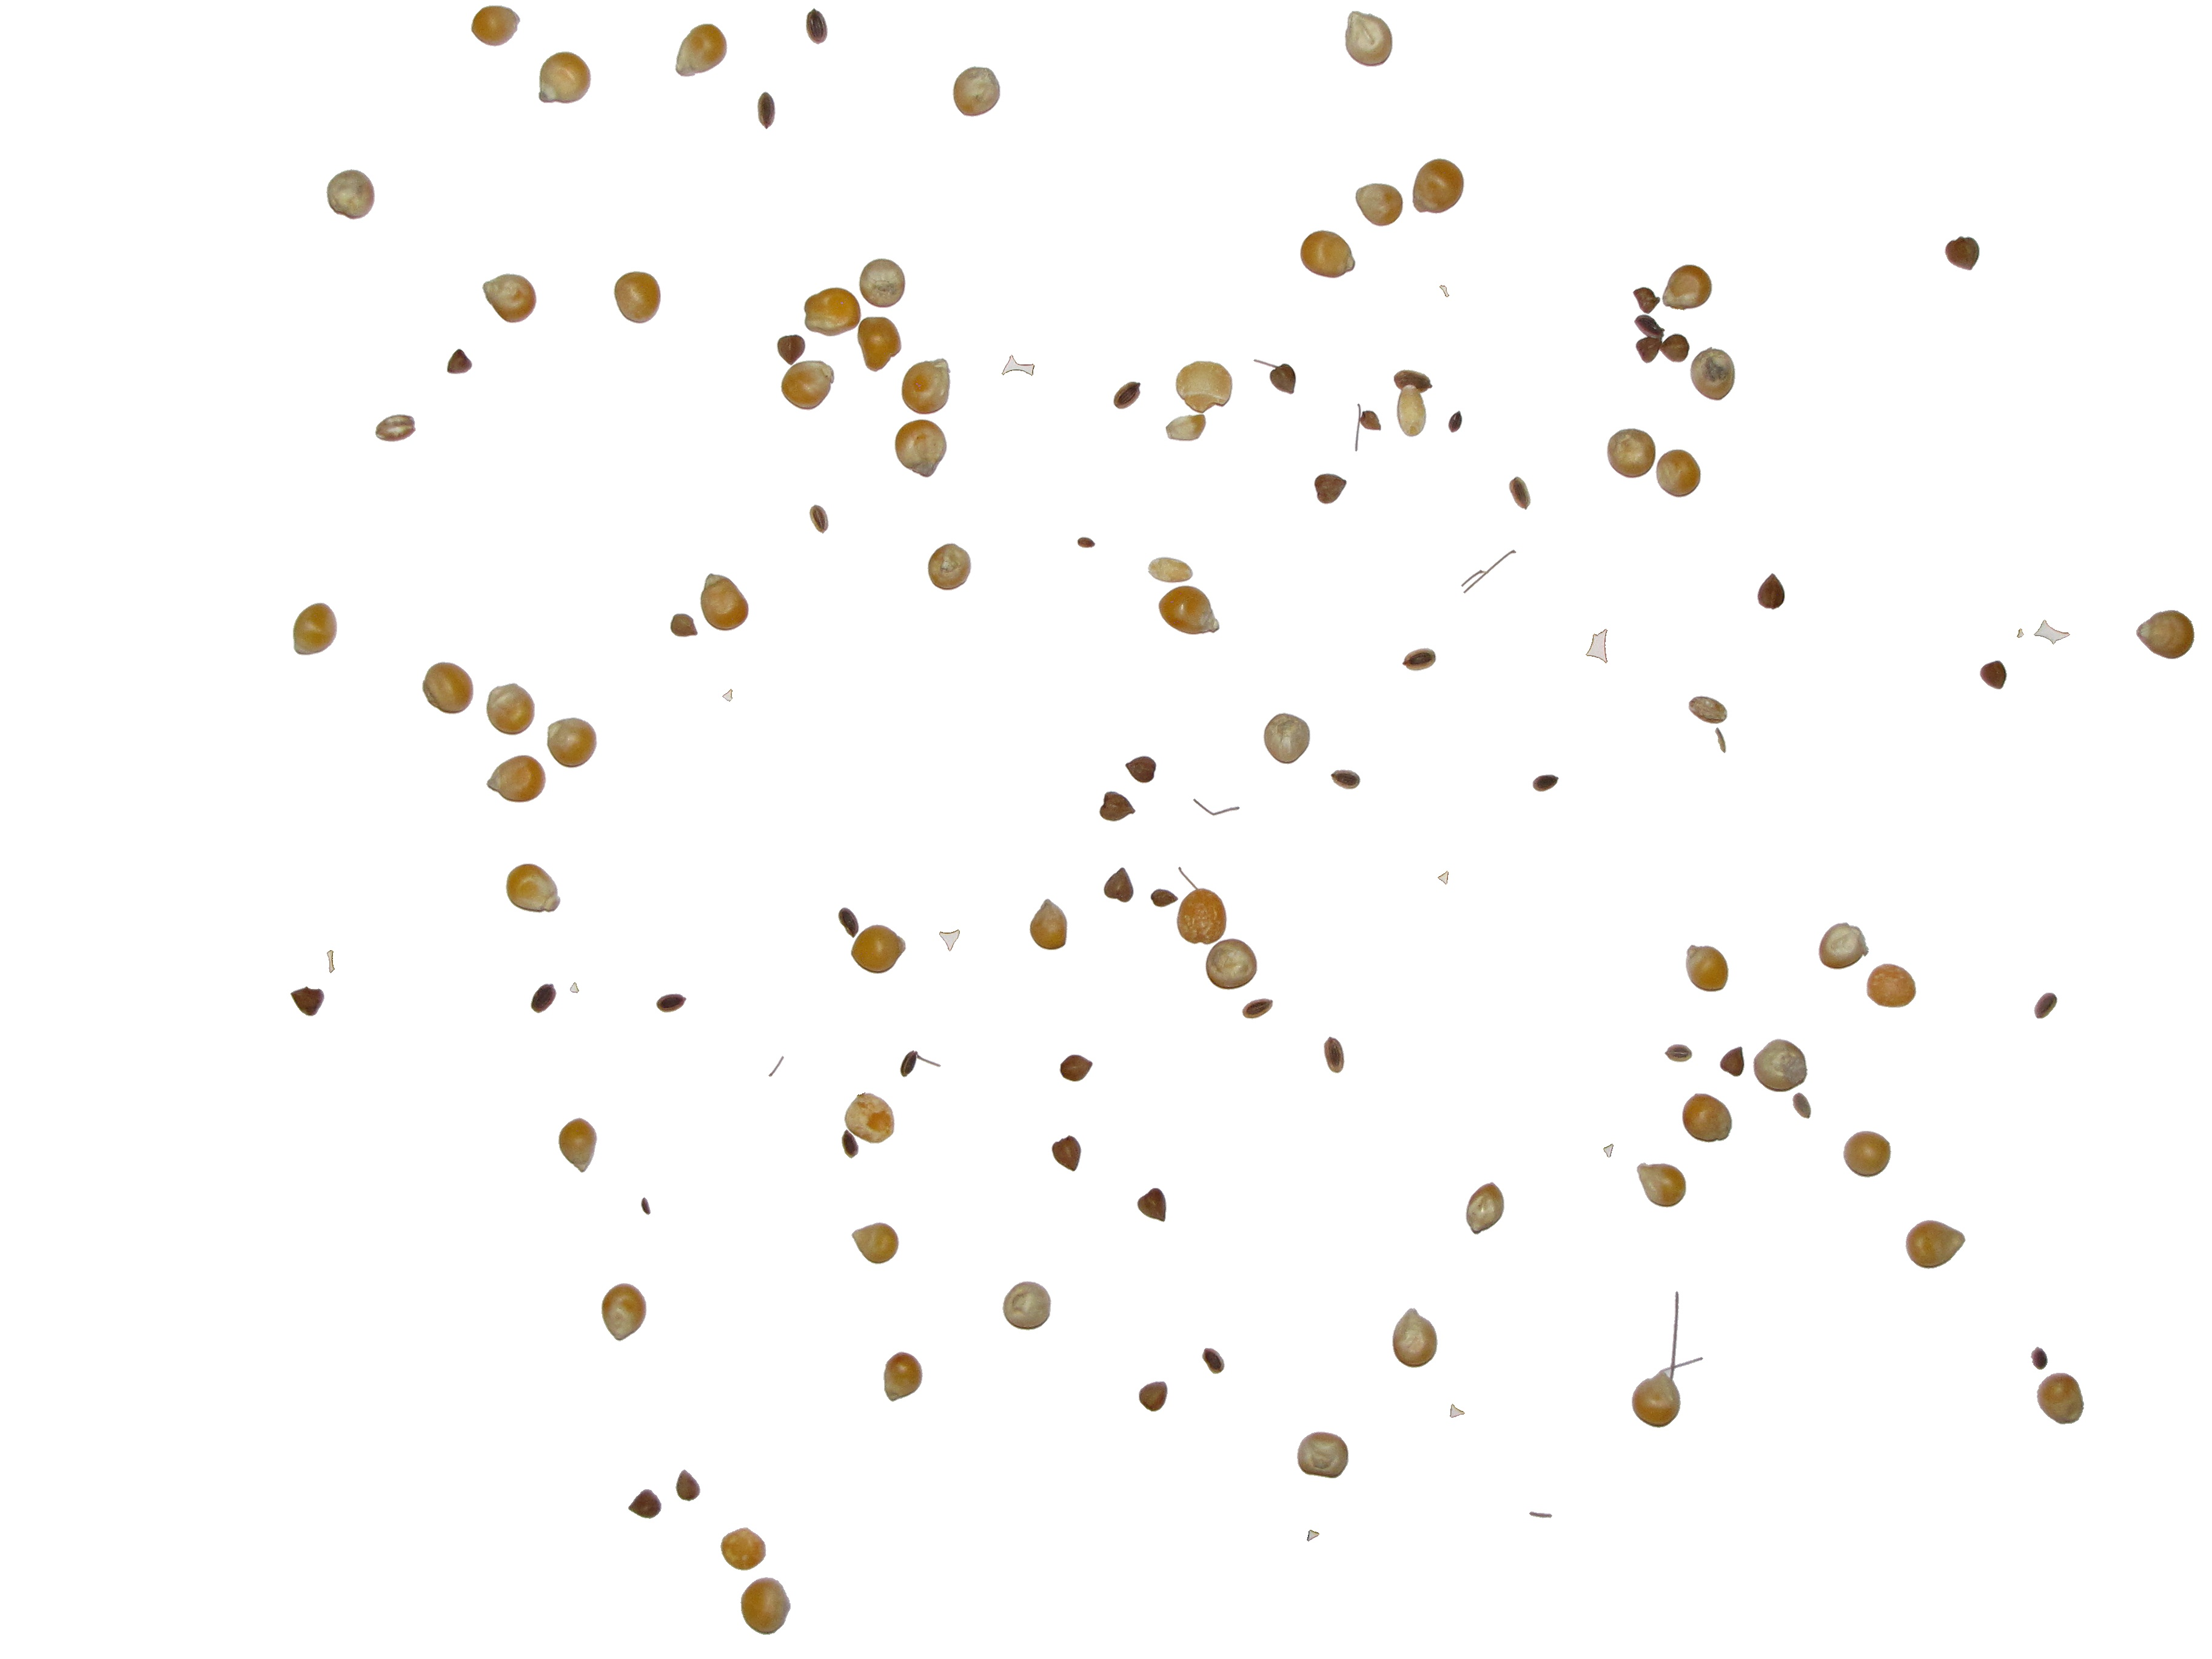buckwheat: (1635, 315, 1689, 362), (1254, 359, 1296, 394), (1355, 404, 1381, 451), (1946, 239, 1979, 272), (1757, 573, 1787, 610), (1099, 791, 1136, 821), (1104, 868, 1134, 903), (1052, 1136, 1082, 1171), (1689, 695, 1726, 723), (291, 986, 324, 1016), (1315, 474, 1346, 504), (1137, 1188, 1165, 1222), (629, 1490, 660, 1518), (1139, 1382, 1167, 1412), (1125, 756, 1157, 782), (1061, 1054, 1092, 1080), (676, 1469, 700, 1500), (1324, 1037, 1345, 1073), (1402, 648, 1435, 671), (1116, 382, 1143, 410), (1980, 660, 2006, 688), (806, 9, 827, 44), (1587, 629, 1608, 662), (1510, 476, 1531, 509), (1634, 288, 1660, 314), (1665, 1046, 1693, 1070), (531, 983, 556, 1011), (1721, 1047, 1743, 1077), (1242, 999, 1273, 1019), (758, 92, 775, 129), (838, 908, 859, 938), (448, 349, 472, 373), (657, 993, 686, 1012), (1331, 770, 1360, 789), (1202, 1349, 1224, 1373), (1792, 1093, 1811, 1119), (1151, 889, 1177, 908), (843, 1129, 859, 1159), (1533, 775, 1559, 791), (941, 931, 960, 951), (2031, 1347, 2047, 1370), (768, 1056, 784, 1077), (1716, 728, 1726, 753), (1449, 411, 1461, 432), (641, 1197, 650, 1215), (1439, 871, 1447, 884), (571, 983, 578, 993)
dill: (1193, 800, 1240, 816)
mais: (1158, 586, 1219, 634), (1176, 361, 1231, 413), (740, 1577, 791, 1635), (895, 420, 946, 477), (1905, 1220, 1965, 1269), (2137, 610, 2195, 659), (700, 573, 749, 631), (1177, 887, 1226, 945), (1754, 1039, 1806, 1091), (1413, 159, 1463, 213), (902, 359, 951, 415), (805, 288, 860, 336), (676, 24, 726, 77), (423, 662, 474, 714), (1205, 939, 1258, 990), (538, 52, 590, 103), (482, 274, 536, 322), (780, 361, 834, 410), (507, 864, 561, 913), (488, 756, 545, 802), (1393, 1309, 1437, 1368), (845, 1093, 895, 1143), (547, 718, 597, 769), (486, 683, 535, 735), (852, 925, 906, 972), (1301, 230, 1355, 277), (1345, 12, 1392, 66), (1632, 1375, 1679, 1427), (603, 1284, 646, 1340), (1683, 1094, 1731, 1143), (327, 169, 374, 220), (953, 66, 1000, 117), (857, 317, 900, 371), (1691, 347, 1735, 401), (1608, 429, 1655, 477), (1818, 924, 1869, 969), (1662, 265, 1712, 310), (1264, 713, 1310, 763), (2038, 1373, 2083, 1424), (1298, 1432, 1348, 1478), (615, 272, 660, 322), (293, 603, 336, 655), (859, 260, 906, 307), (1003, 1283, 1050, 1330), (1637, 1162, 1686, 1208), (1656, 450, 1702, 497), (1843, 1131, 1890, 1176), (1355, 183, 1404, 227), (1867, 964, 1916, 1007), (559, 1119, 597, 1173), (852, 1222, 899, 1263), (928, 544, 970, 591), (1686, 945, 1728, 992), (1029, 899, 1068, 950), (721, 1528, 766, 1570), (472, 5, 519, 45), (885, 1352, 923, 1401), (1467, 1183, 1503, 1234)
other: (1393, 390, 1426, 437), (1148, 558, 1193, 582), (900, 1051, 941, 1077), (374, 415, 415, 441), (1165, 415, 1205, 441), (2034, 620, 2069, 645), (777, 335, 805, 364), (1001, 356, 1035, 375), (671, 613, 697, 636), (2034, 993, 2057, 1018), (812, 505, 831, 533), (1451, 1405, 1467, 1422), (1078, 537, 1096, 547), (1529, 1511, 1552, 1518), (327, 951, 334, 972), (1308, 1530, 1318, 1540), (1604, 1145, 1613, 1157), (1440, 286, 1449, 296), (723, 690, 732, 701), (1439, 284, 1447, 295), (2017, 629, 2024, 638)
